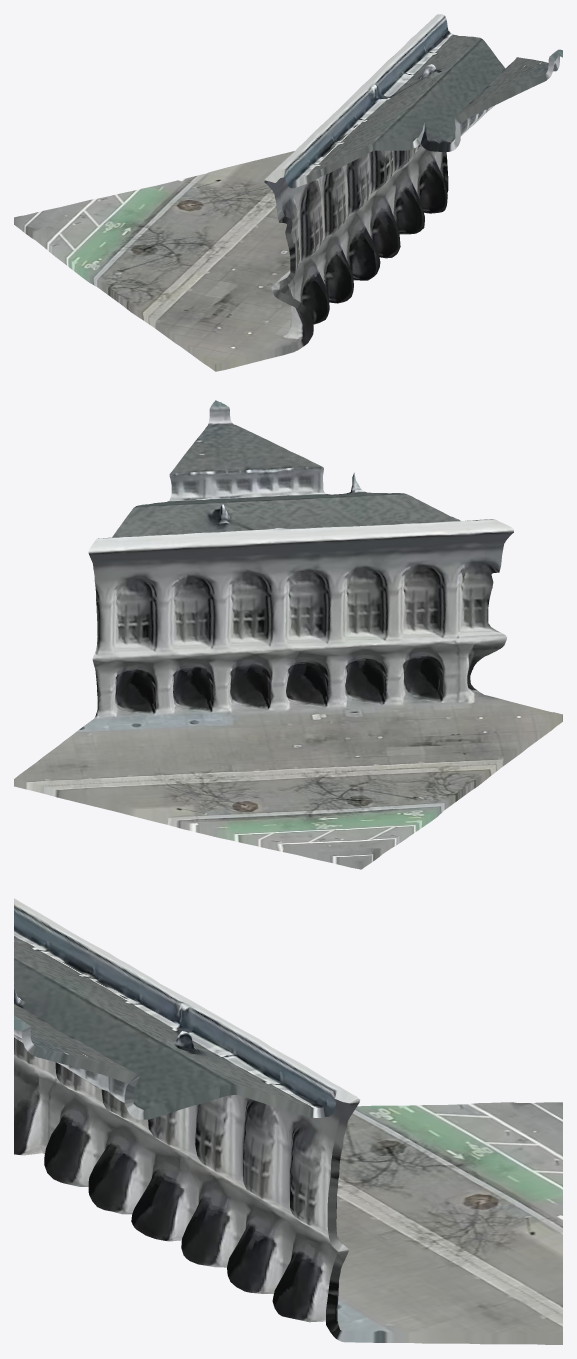
Rendered from z20-167791-405222-h0-yup-uvflip-v3-world.glb.
The picture shows the model from 3 angles, top to bottom: view 1: azimuth 30°, elevation 25°; view 2: azimuth 150°, elevation 25°; view 3: azimuth 270°, elevation 25°; orthographic projection. The views are drawn at different scales.
Size of the model in its own units: 30.16 by 19.92 by 30.32.
1 material, 1 textured.
